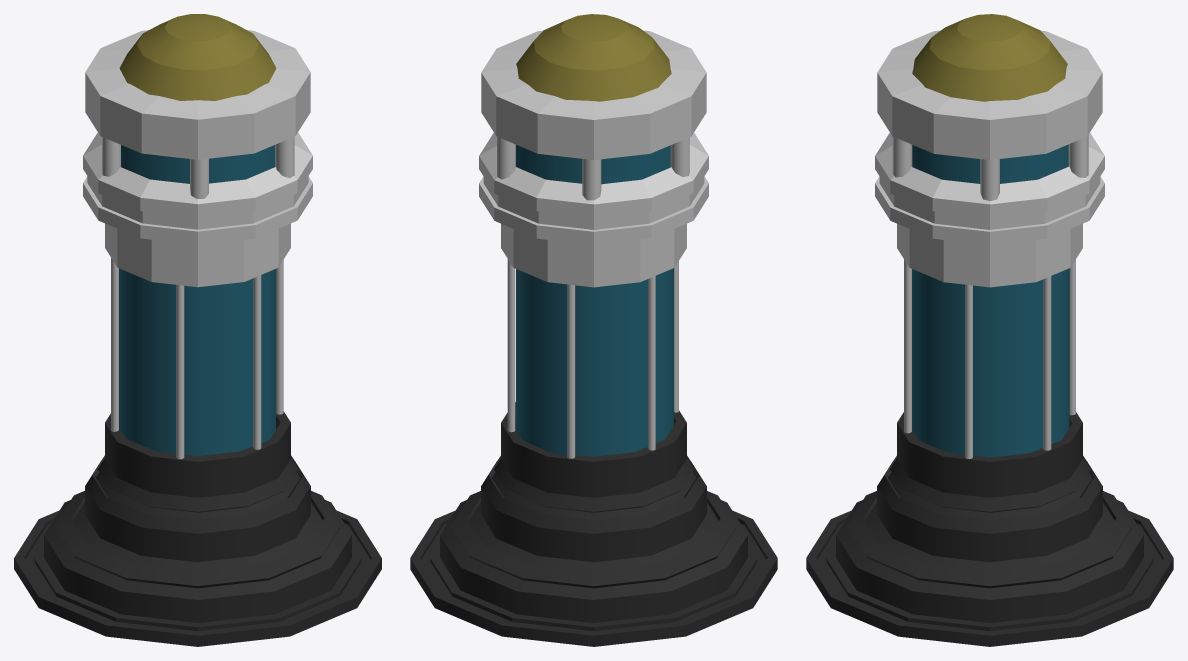
File: Capsula.obj
3 renders of one model, left to right at view 1: azimuth 30°, elevation 25°; view 2: azimuth 150°, elevation 25°; view 3: azimuth 270°, elevation 25°, orthographic.
Visible parts, largest first — view 1: Capsula, Capsula CapsulaMedio; view 2: Capsula, Capsula CapsulaMedio; view 3: Capsula, Capsula CapsulaMedio.
Boxes of the visible parts, <box> form: Capsula: <box>14,14,381,646</box>; Capsula CapsulaMedio: <box>119,145,275,455</box>; Capsula: <box>410,14,777,646</box>; Capsula CapsulaMedio: <box>516,145,673,456</box>; Capsula: <box>806,14,1173,646</box>; Capsula CapsulaMedio: <box>912,144,1069,457</box>.
Size of the model in its own units: 4.26 by 7 by 4.26.
